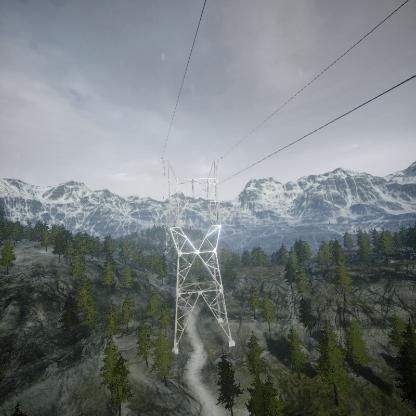tower: (154, 153, 240, 358)
